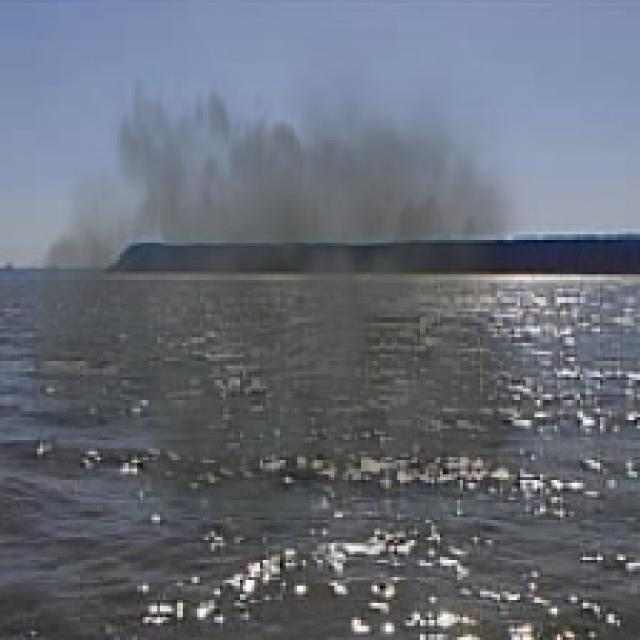smoke: (31, 29, 552, 557)
